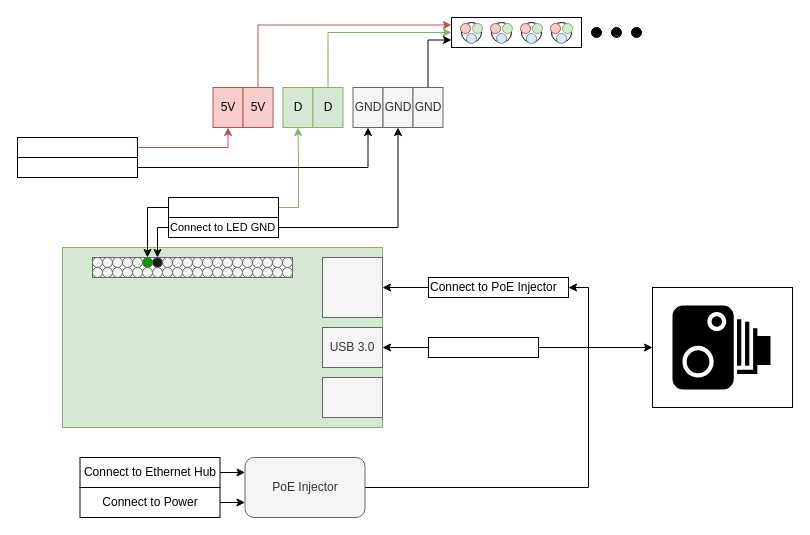
Image size: 810x535. Some labels were removed from this diagram. Each missing label, with the centre of its shape:
Connect to Camera: point 483,347
Connect to LED DIN: point 223,207
Connect to PSU 5V: point 77,147
Connect to PSU GND: point 77,167
Ethernet: point 352,287
USB 2.0: point 352,397
